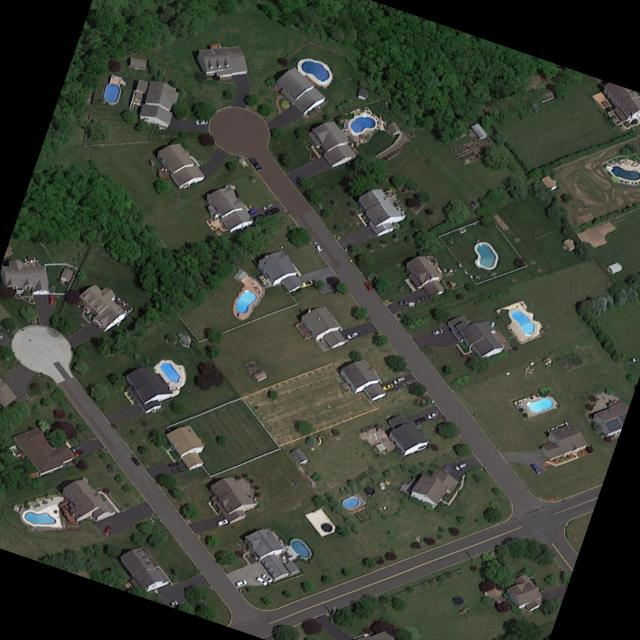small-vehicle: (248, 156, 263, 171), (529, 461, 544, 474), (453, 460, 469, 470), (261, 571, 274, 583), (345, 329, 360, 339), (312, 239, 324, 251), (255, 575, 269, 585), (398, 298, 415, 306), (165, 598, 180, 607), (430, 326, 445, 335), (102, 523, 113, 535), (233, 578, 249, 586), (215, 517, 229, 526), (300, 278, 314, 287), (392, 374, 406, 383), (381, 381, 395, 390), (426, 409, 440, 418), (172, 465, 187, 473), (413, 414, 426, 423), (261, 201, 275, 209), (130, 455, 141, 465), (70, 442, 83, 450), (415, 294, 428, 302), (363, 281, 374, 290), (74, 448, 86, 456), (167, 461, 181, 467), (48, 293, 55, 304), (195, 118, 209, 123), (0, 333, 5, 339)
